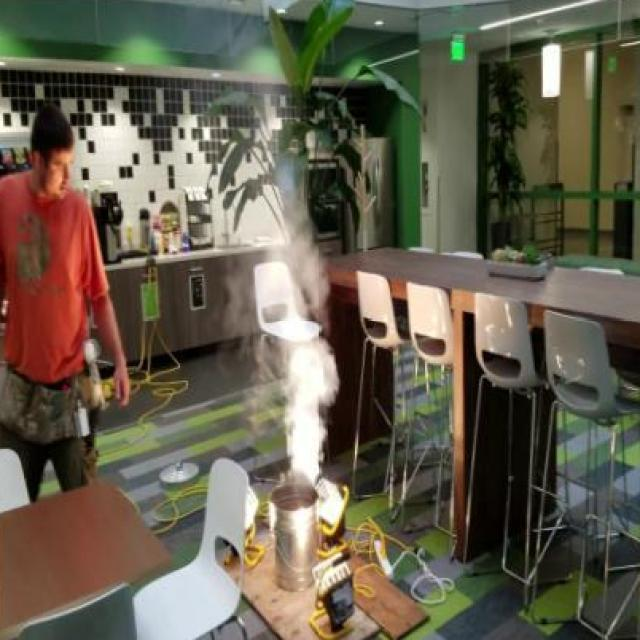fire: (262, 230, 345, 478)
